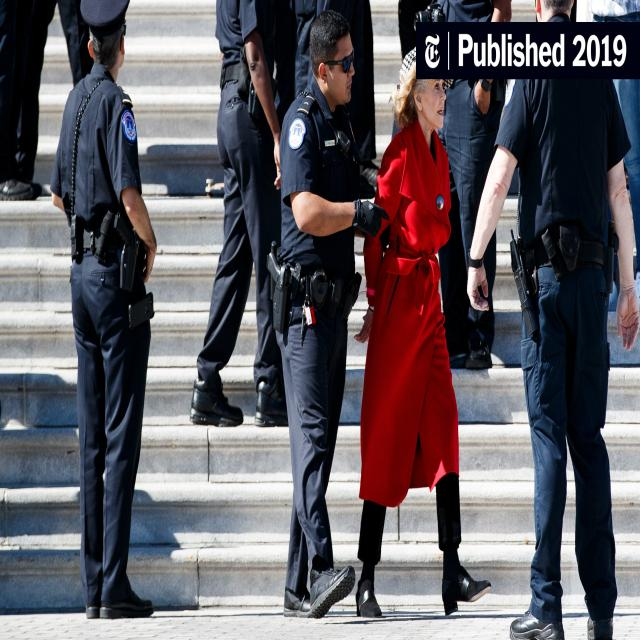police: (472, 0, 640, 640), (54, 0, 185, 623), (253, 9, 372, 640)
